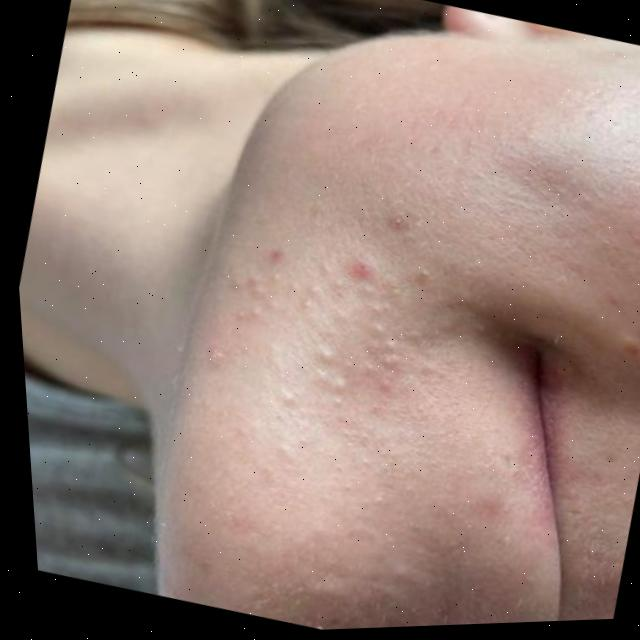Acne: (182, 148, 477, 461)
